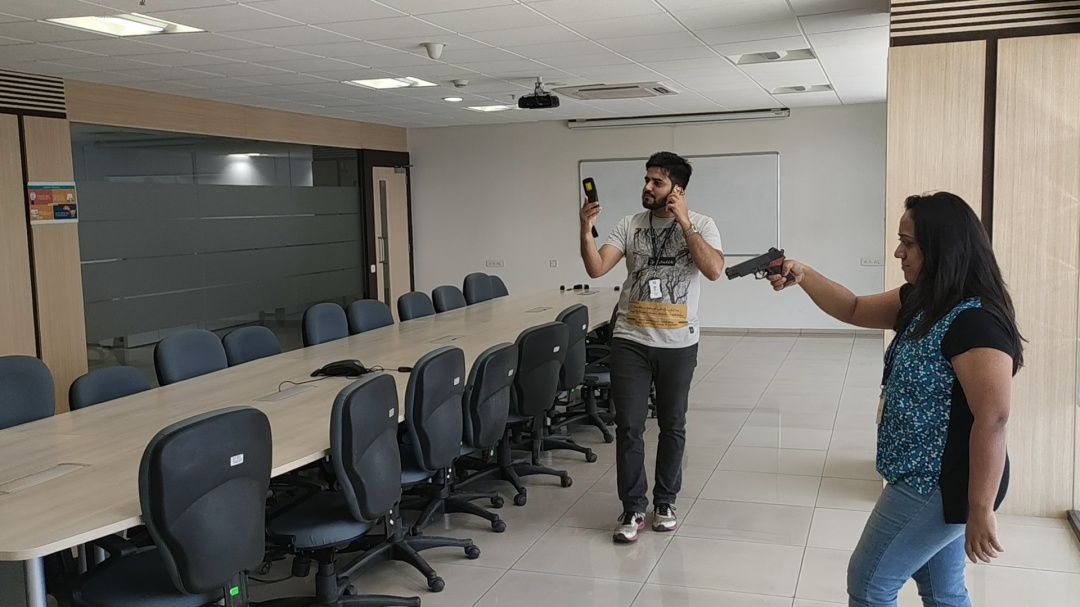gun: (725, 246, 797, 288)
